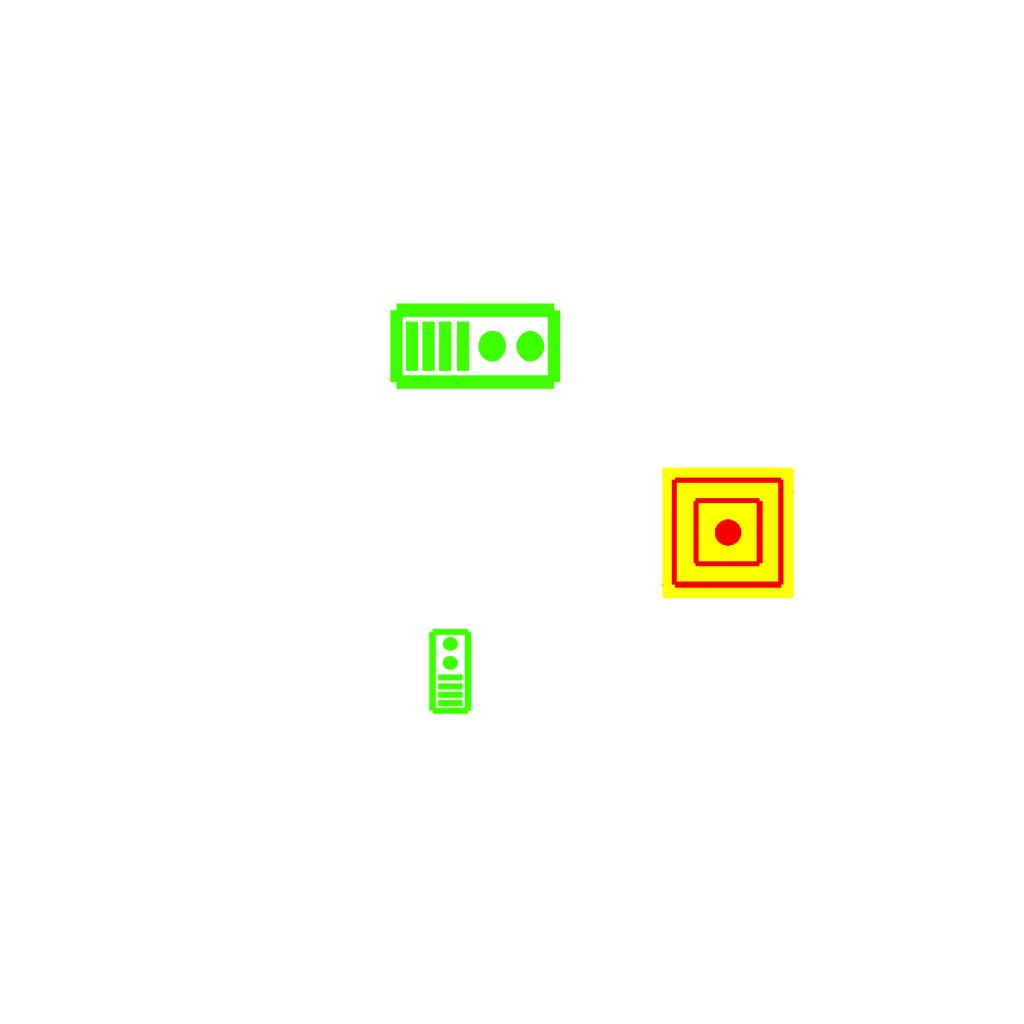Gegensprechanlage_mit_Video: (388, 297, 564, 392), (426, 627, 473, 715)
NAM-Nichtautomatischer_Melder: (662, 467, 794, 599)
